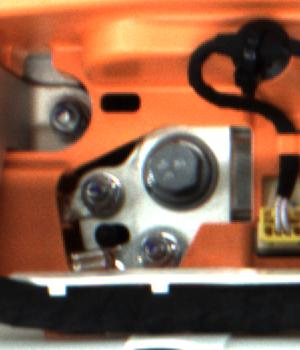nut_b: (142, 124, 220, 213)
screw_s: (77, 174, 120, 211), (45, 99, 81, 138), (144, 233, 175, 268)
